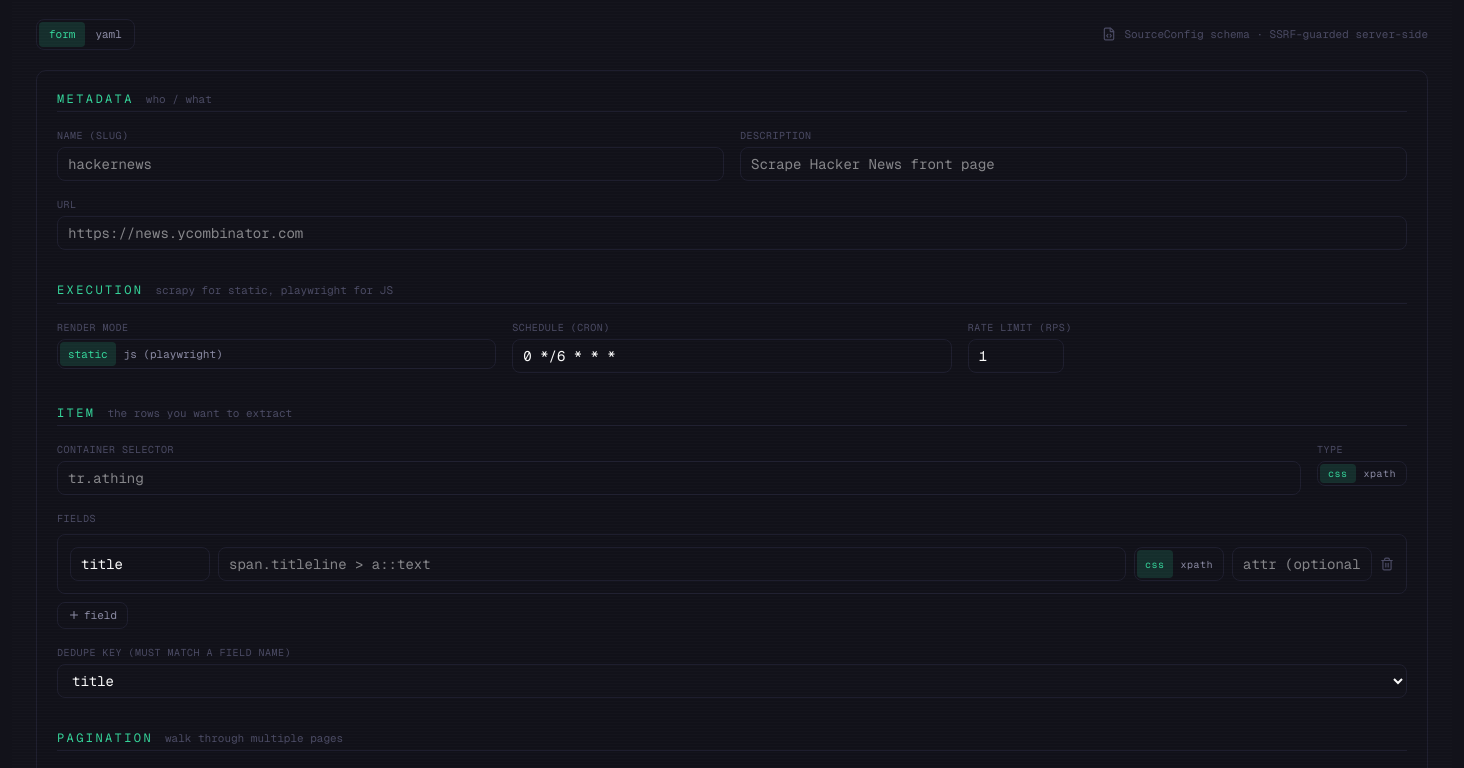
Scenario: SourceEditor (create mode) › renders 409 conflict as a banner
In the field with test id "name-input": coordinates (390, 164) [57, 147, 724, 181], type "my-source"
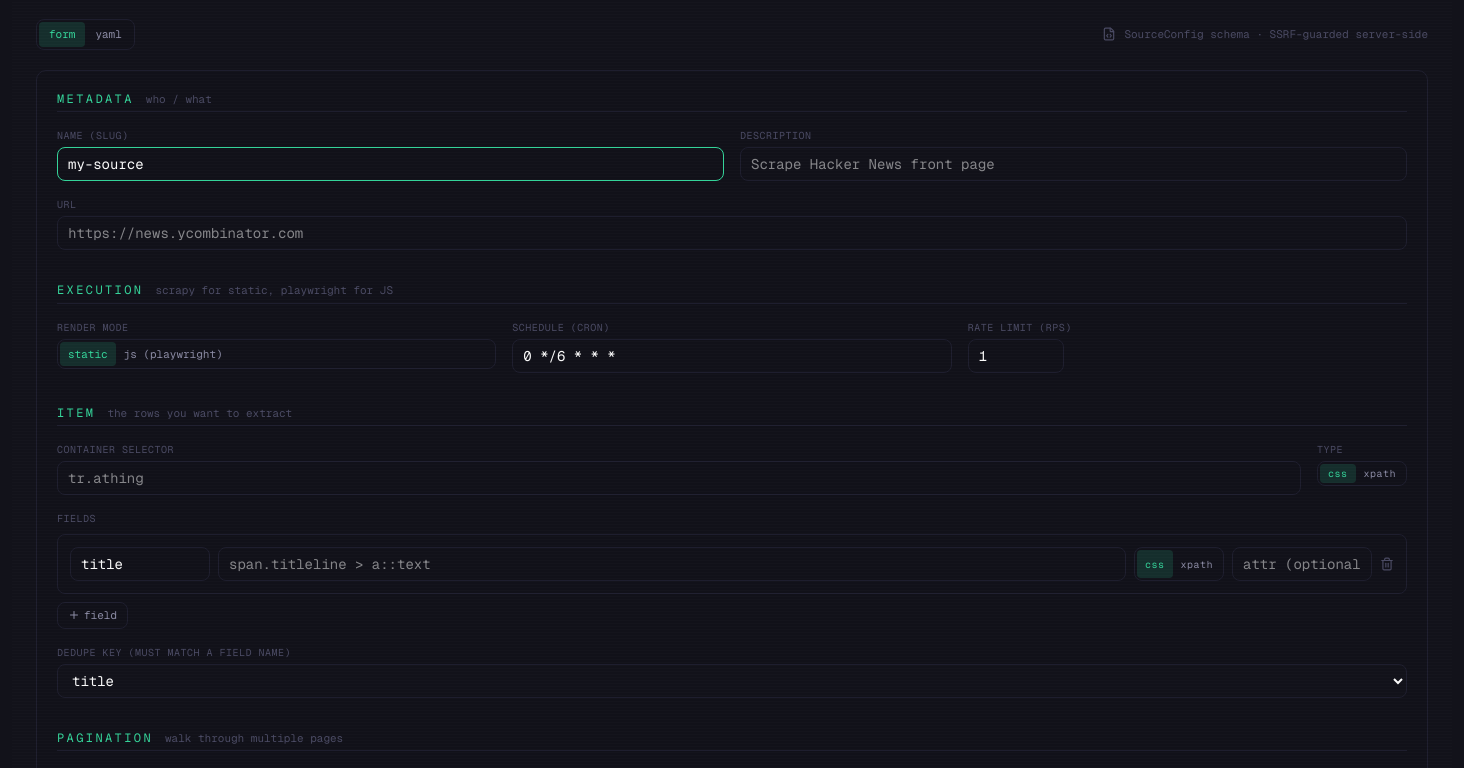
In the field with placeholder "https://news.ycombinator.com": coordinates (732, 233) [57, 216, 1407, 250], type "https://example.com"
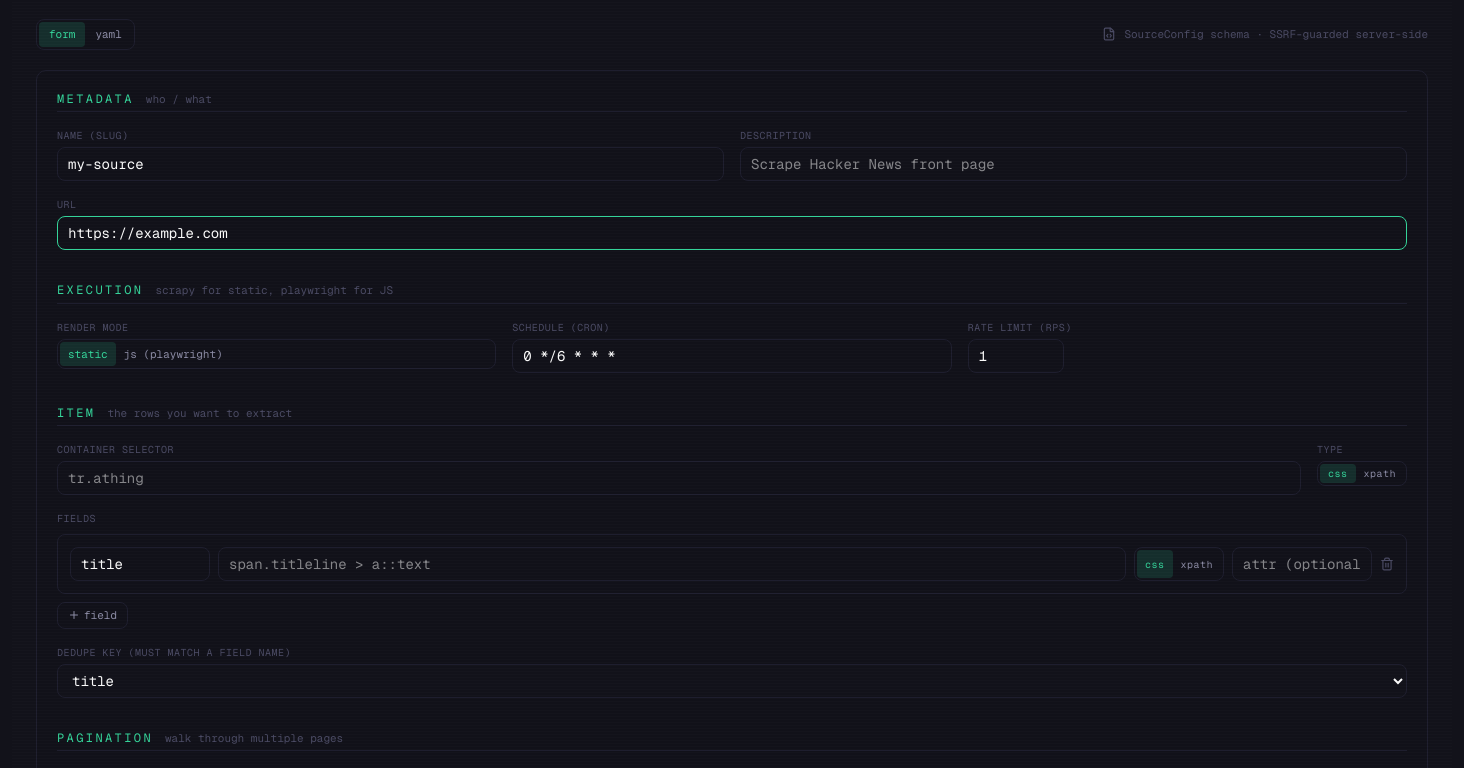
In the field with placeholder "tr.athing": coordinates (679, 478) [57, 461, 1301, 495], type "a"
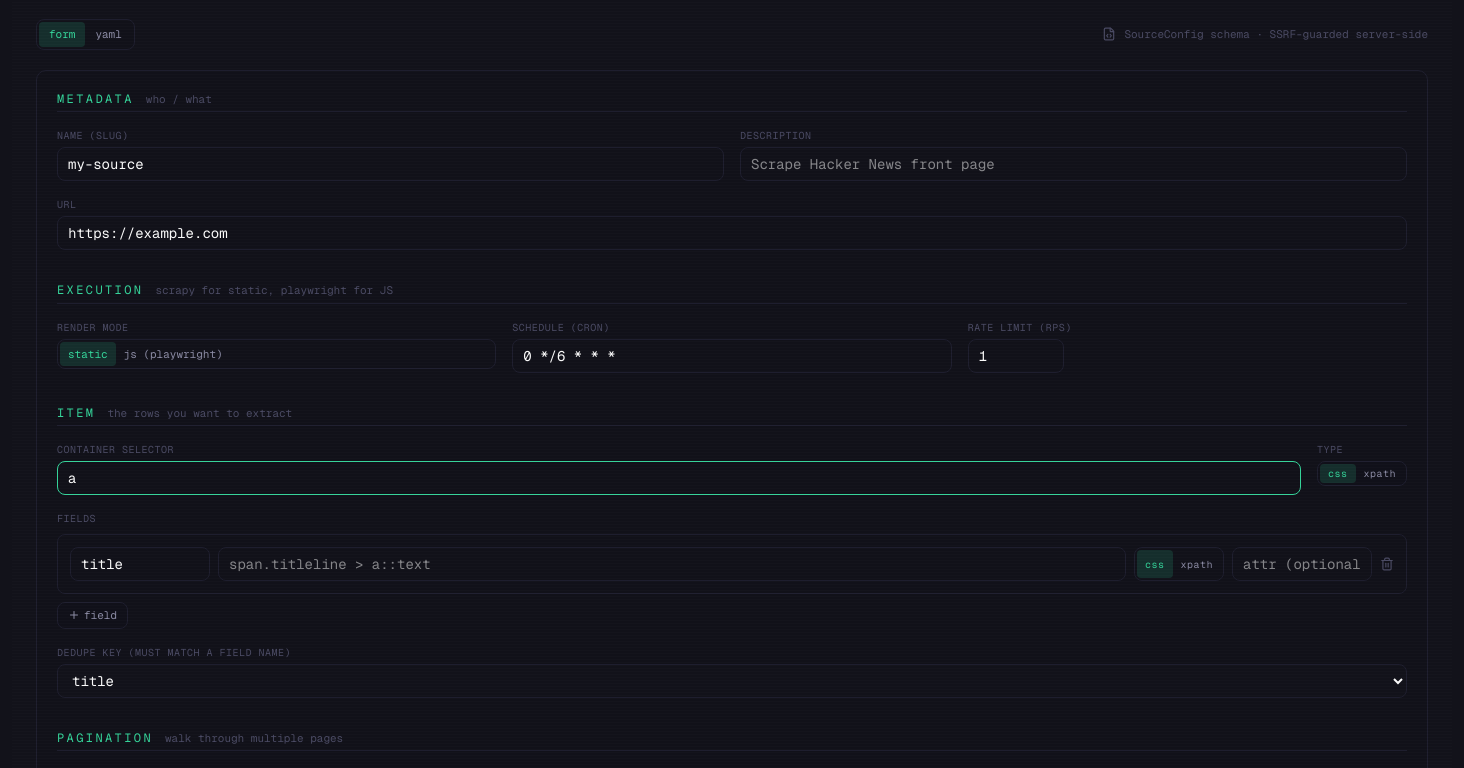
In the field with placeholder "span.titleline > a::text": coordinates (672, 564) [218, 547, 1126, 581], type "b"
(page scrolled)
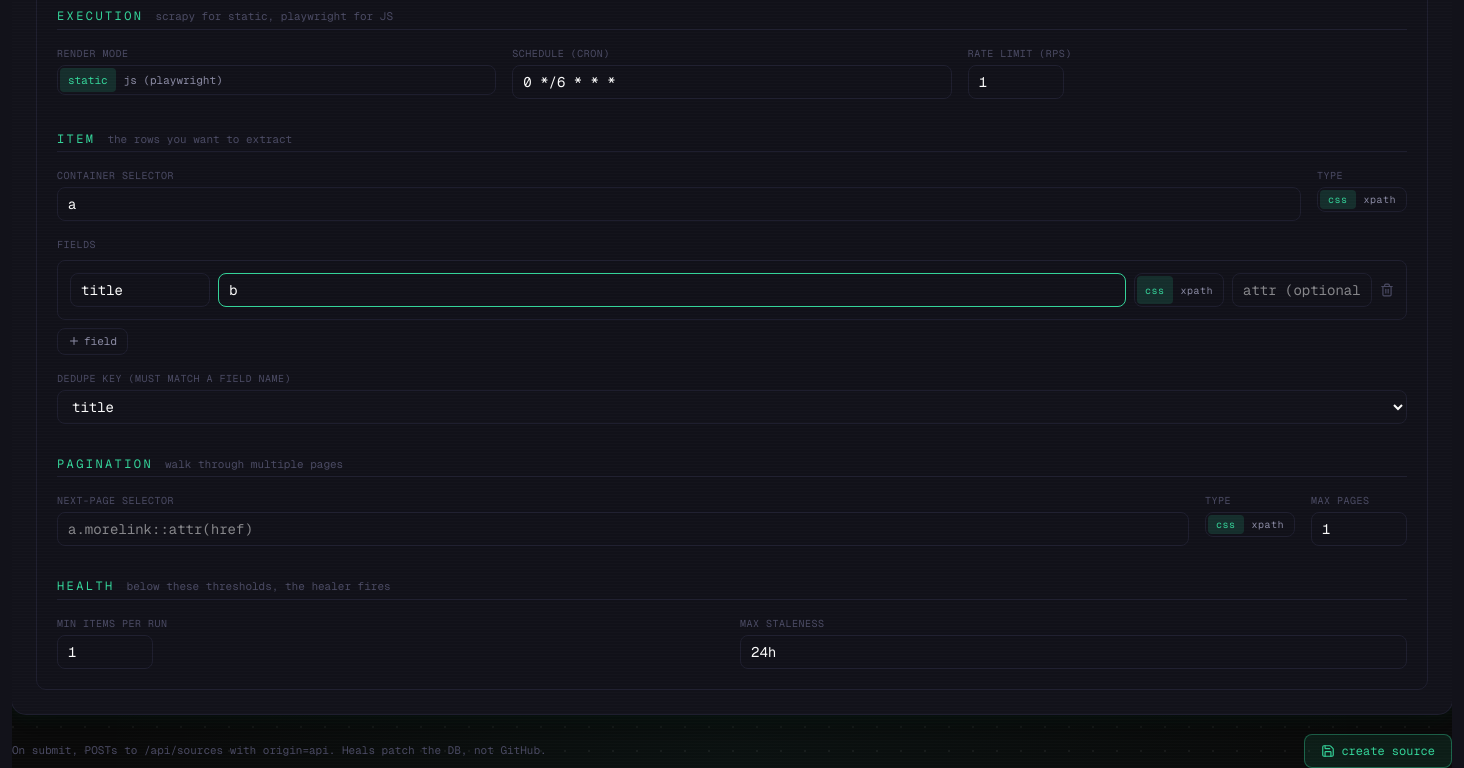
Click the button "create source": coordinates (1378, 750) [1304, 734, 1452, 767]
(page scrolled)
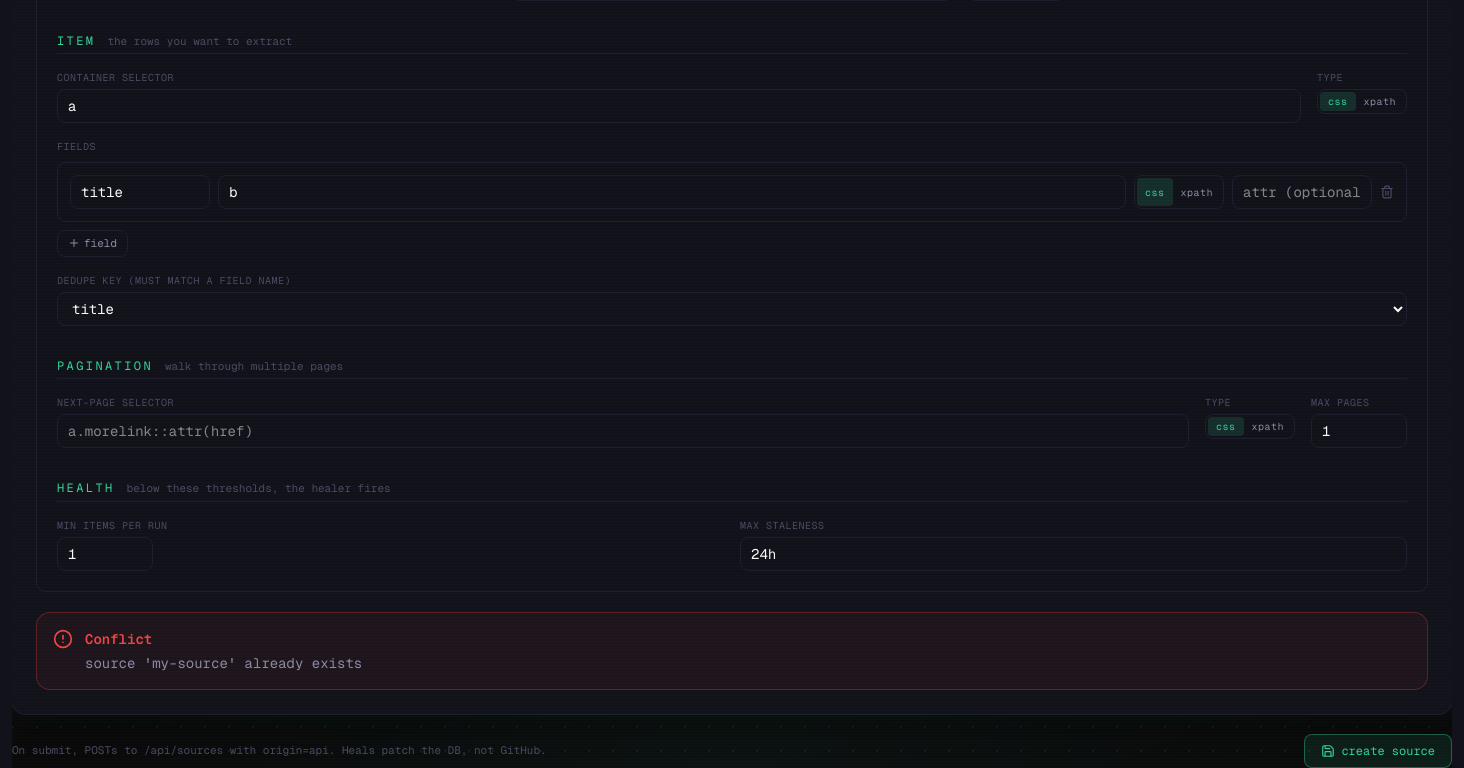
Check: the text "Conflict" is shown, box [85, 630, 152, 648]
Check: the text "source 'my-source' already exists" is shown, box [85, 652, 362, 672]
